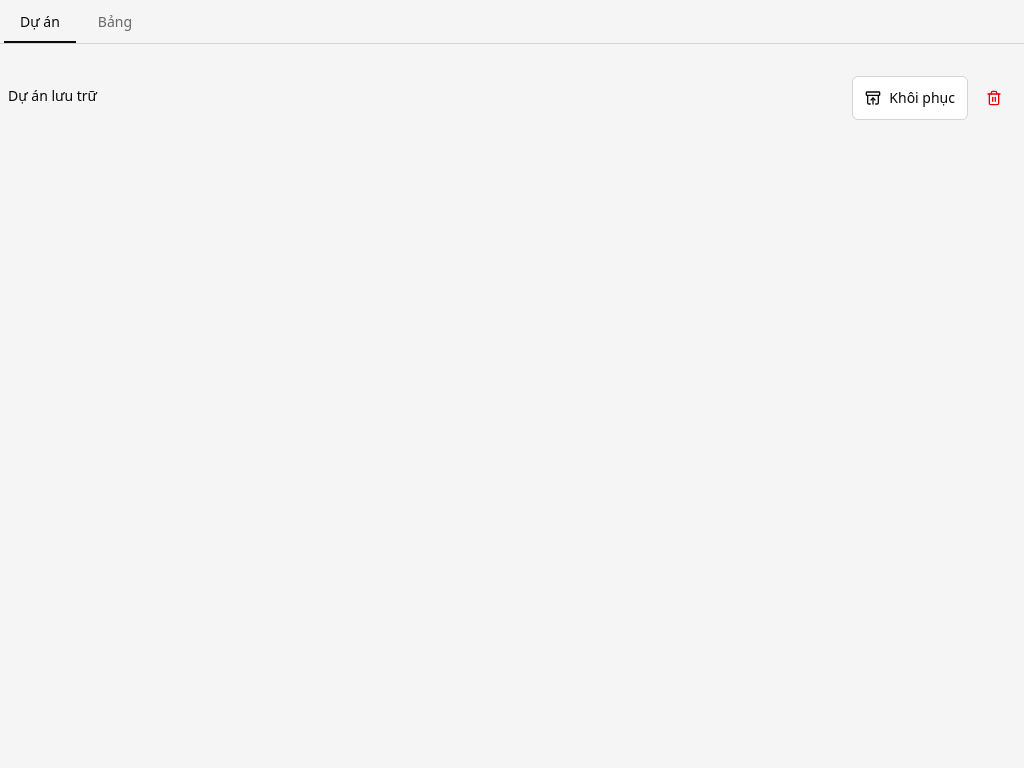
Test: accepts existing domain types and preserves restore and confirmed deletion
What coordinates should you click on to do the following:
click the button with aria-label "Khôi phục dự án Dự án lưu trữ"
I would click on:
 (910, 98)
Its box is [852,76,968,120].
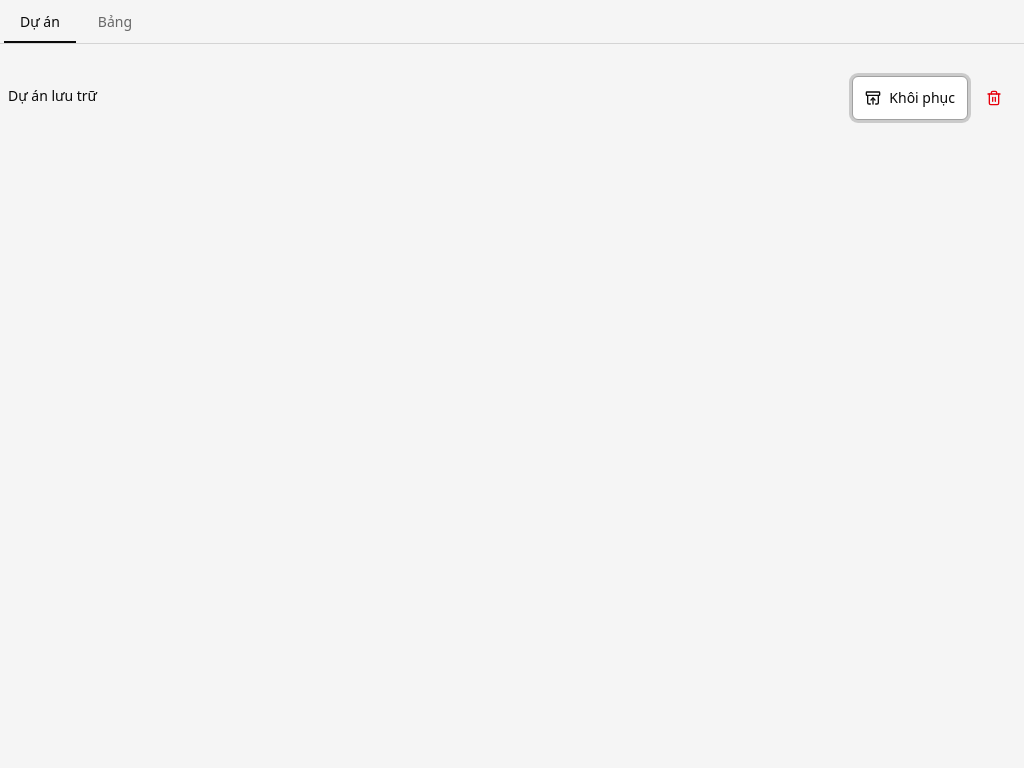
What coordinates should you click on to do the following:
click the button named "Xóa dự án Dự án lưu trữ"
I would click on:
 (994, 98)
Its box is [972,76,1016,120].
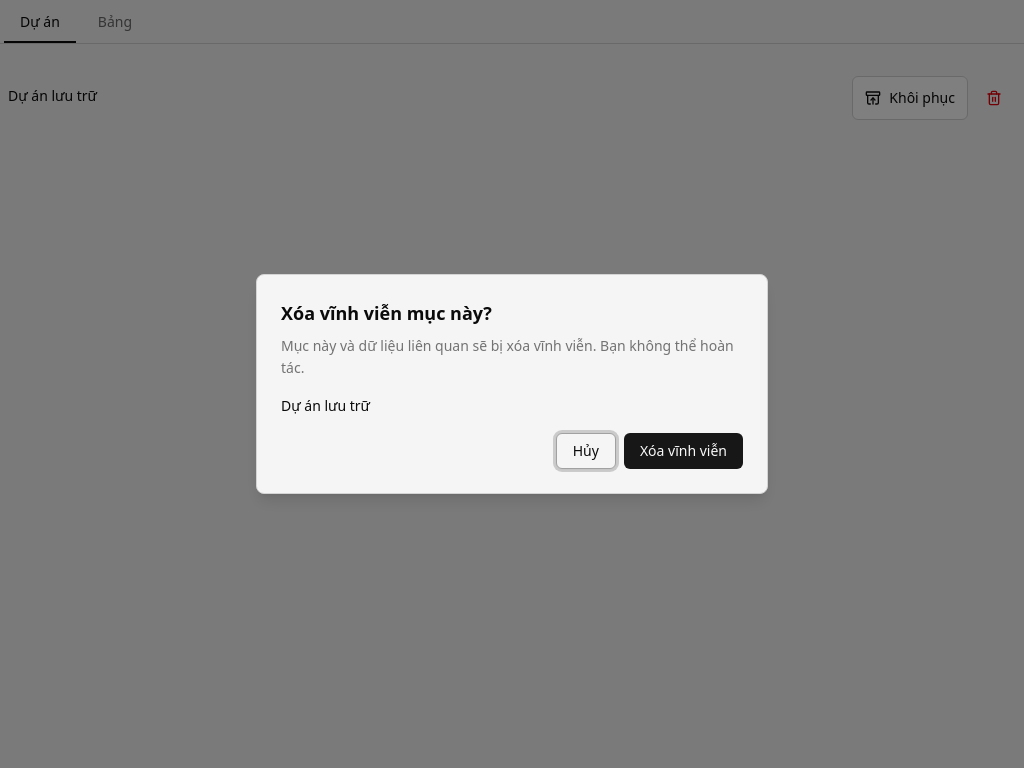
Check: the text "Dự án lưu trữ" is shown, box [281,396,370,415]
What coordinates should you click on to do the following:
click the button "Hủy"
I would click on:
 (586, 451)
Its box is [556,433,616,469].
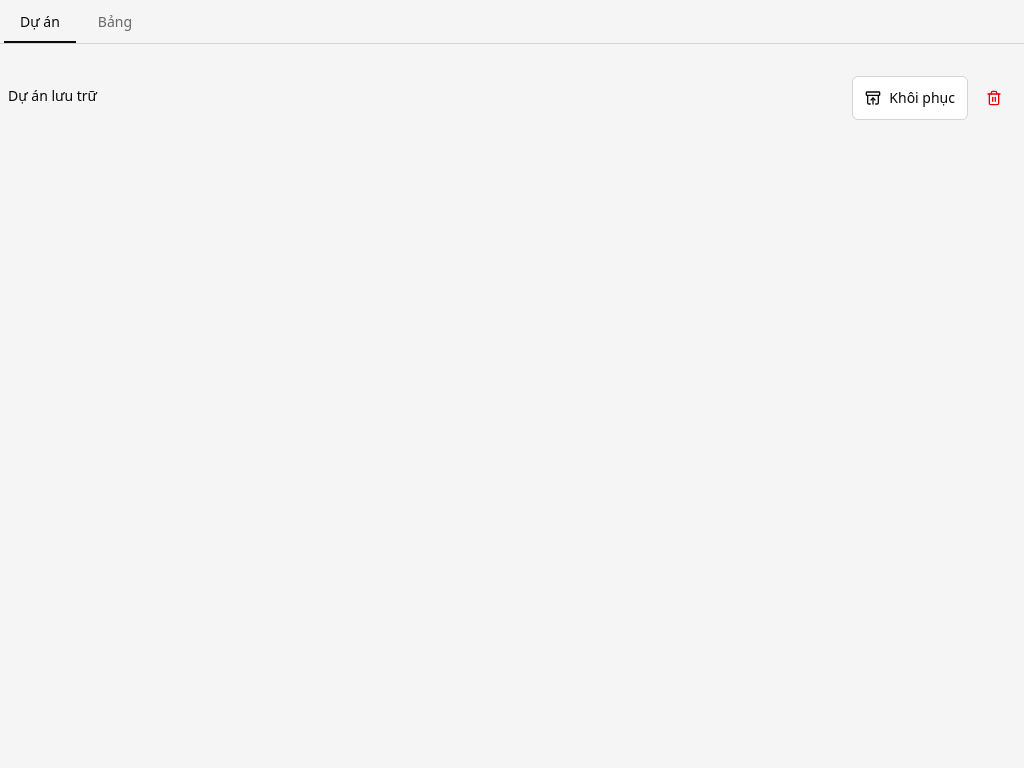
What coordinates should you click on to do the following:
click the button named "Xóa dự án Dự án lưu trữ"
I would click on:
 (994, 98)
Its box is [972,76,1016,120].
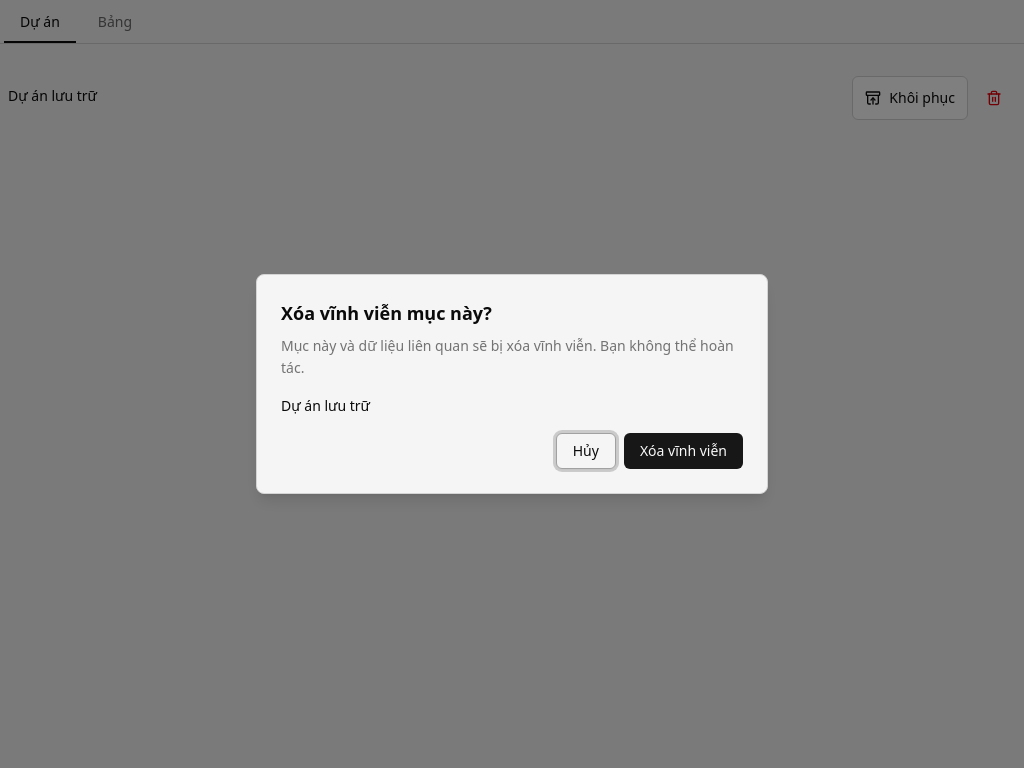
What coordinates should you click on to do the following:
click the button "Xóa vĩnh viễn"
I would click on:
 (683, 451)
Its box is [624,433,743,469].
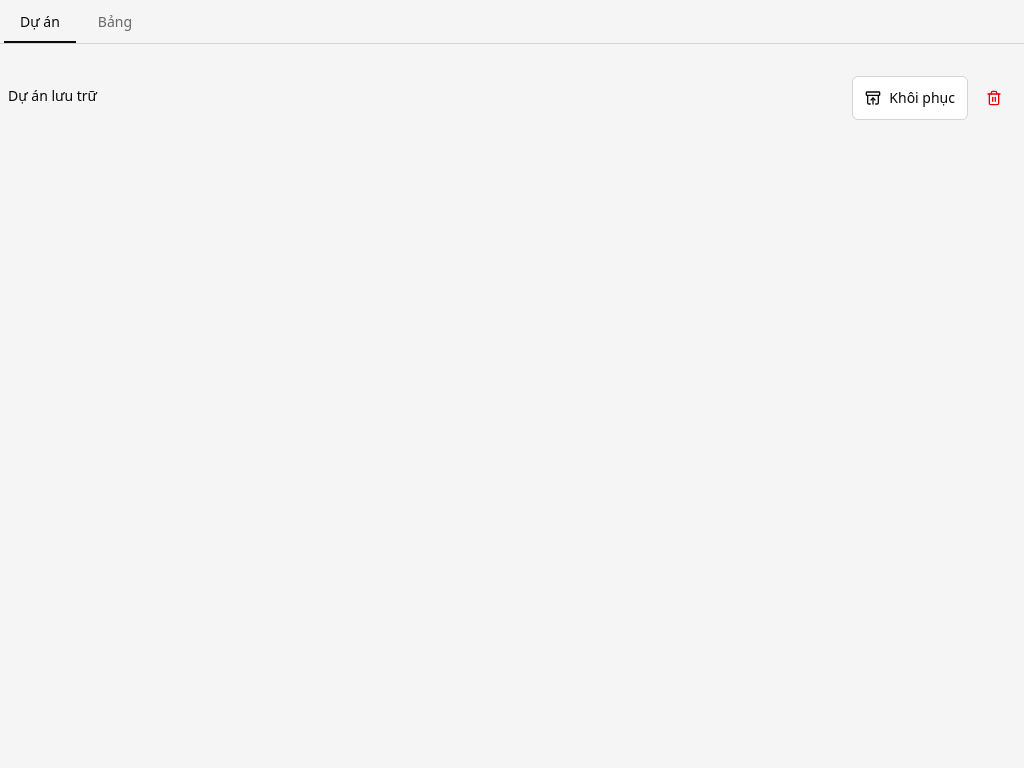
What coordinates should you click on to do the following:
click the tab "Bảng"
I would click on:
 (115, 22)
Its box is [81,0,149,44].
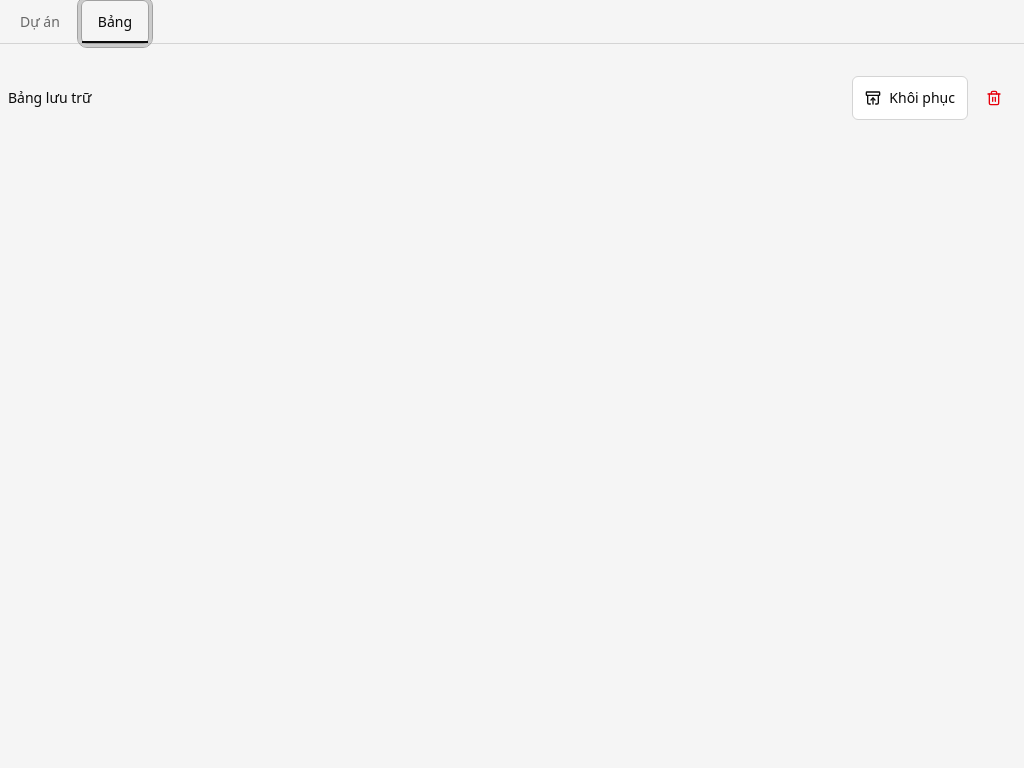
Check: the heading "Bảng lưu trữ" is shown, box [8,88,92,107]
